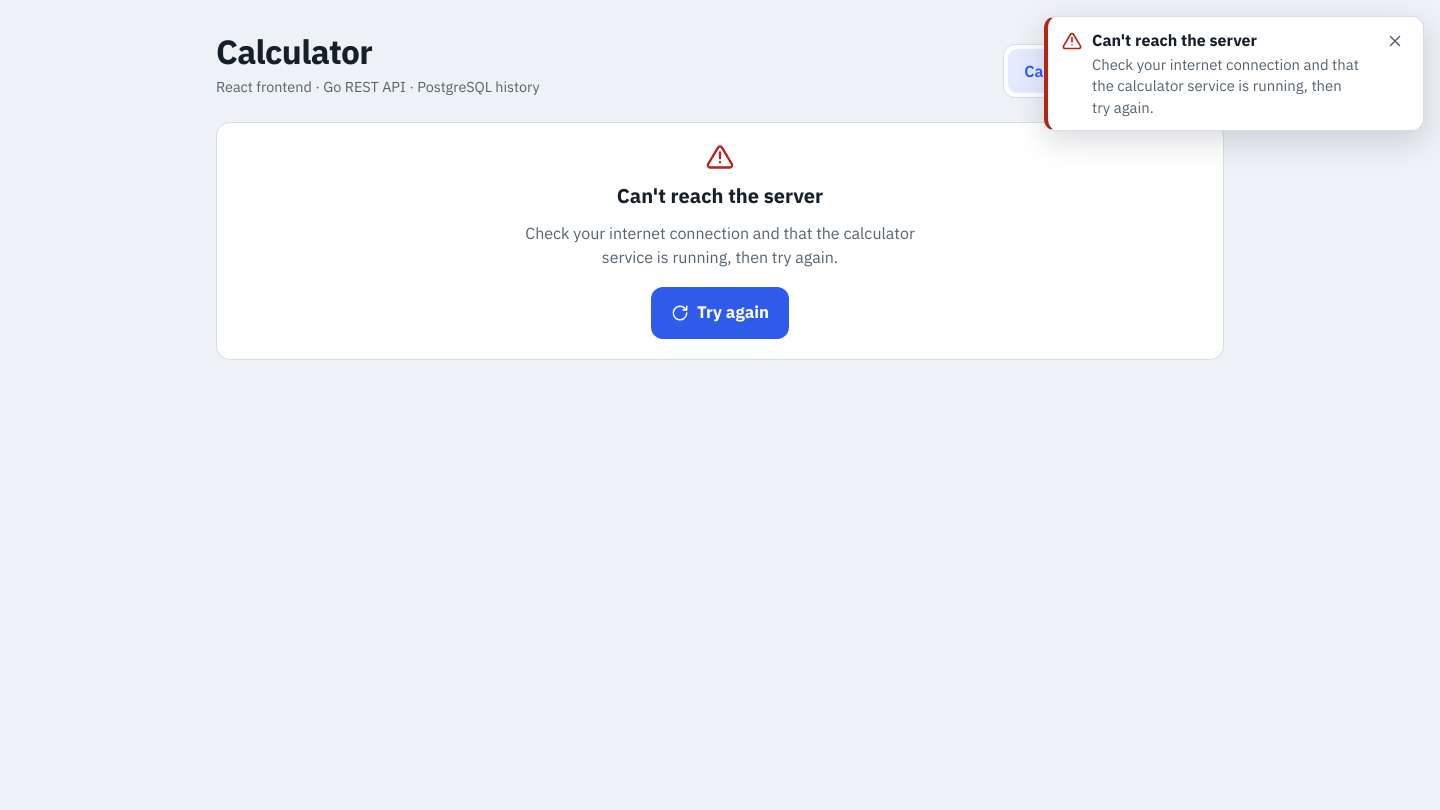
Scenario: App › shows an error with a retry button when the API is down
expect the message shows "Can't reach the server": met, box left=1092, top=30, right=1257, bottom=50
expect the heading "Can't reach the server" is shown: met, box left=617, top=181, right=823, bottom=211
Click the button "Try again": (720, 313) left=651, top=287, right=789, bottom=339
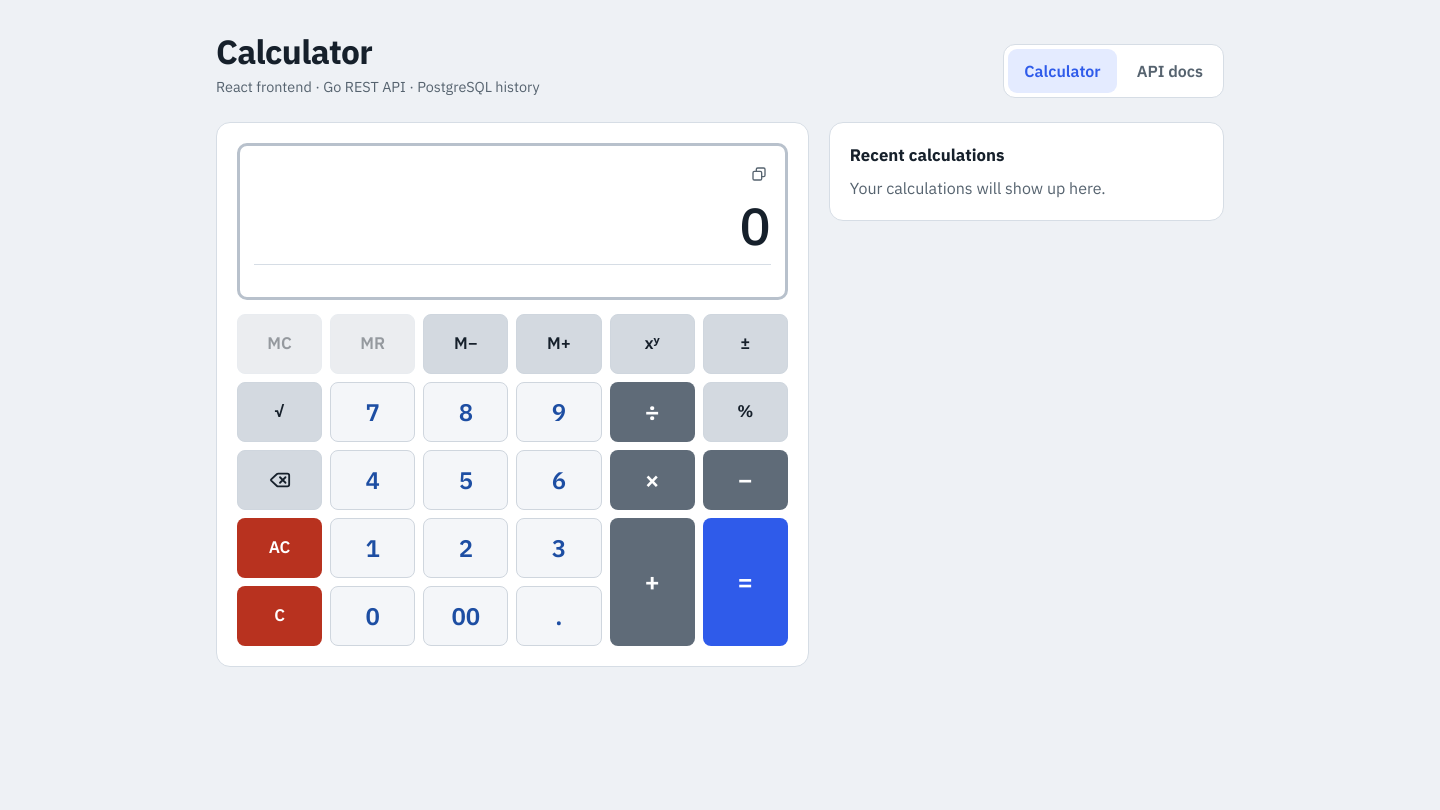
expect the button named "Equals" is shown: met, box left=703, top=518, right=788, bottom=646
